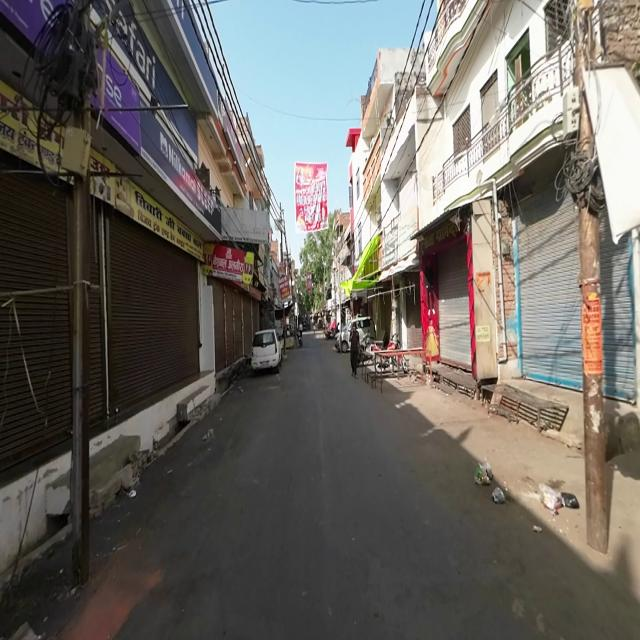Garbage: (539, 479, 579, 515), (474, 460, 506, 502)
